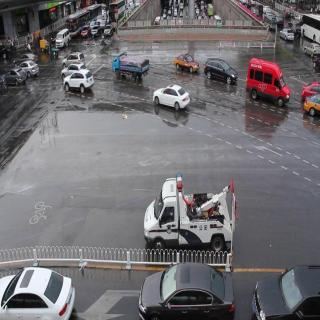BigCar: (111, 51, 148, 82), (302, 12, 320, 42), (67, 12, 82, 41)
Car: (142, 170, 234, 250), (138, 262, 235, 320), (249, 263, 320, 320), (0, 269, 78, 320), (247, 54, 294, 111), (152, 83, 190, 115), (204, 54, 238, 89), (62, 70, 94, 100), (173, 51, 199, 78), (303, 94, 320, 120), (62, 60, 86, 76), (6, 68, 26, 87), (61, 52, 85, 67), (21, 60, 38, 79), (279, 26, 295, 44), (300, 81, 318, 96), (56, 30, 68, 49), (264, 14, 276, 33), (305, 41, 318, 58), (80, 23, 90, 40), (103, 24, 111, 40), (90, 26, 100, 38)
